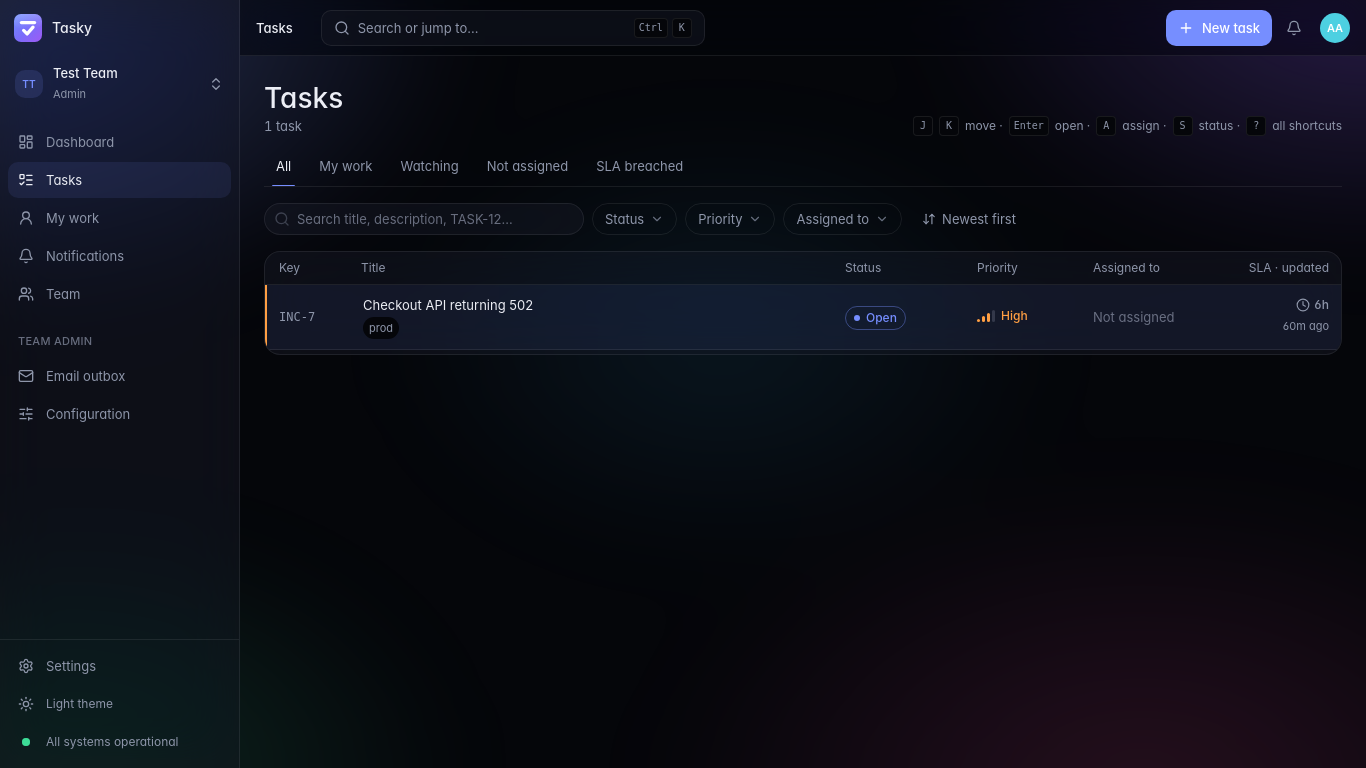
Scenario: task list quick actions › A opens the assign menu for the selected row; picking someone assigns
Check: the text "Checkout API returning 502" is shown, box [363,297,533,313]
Type keys "a"
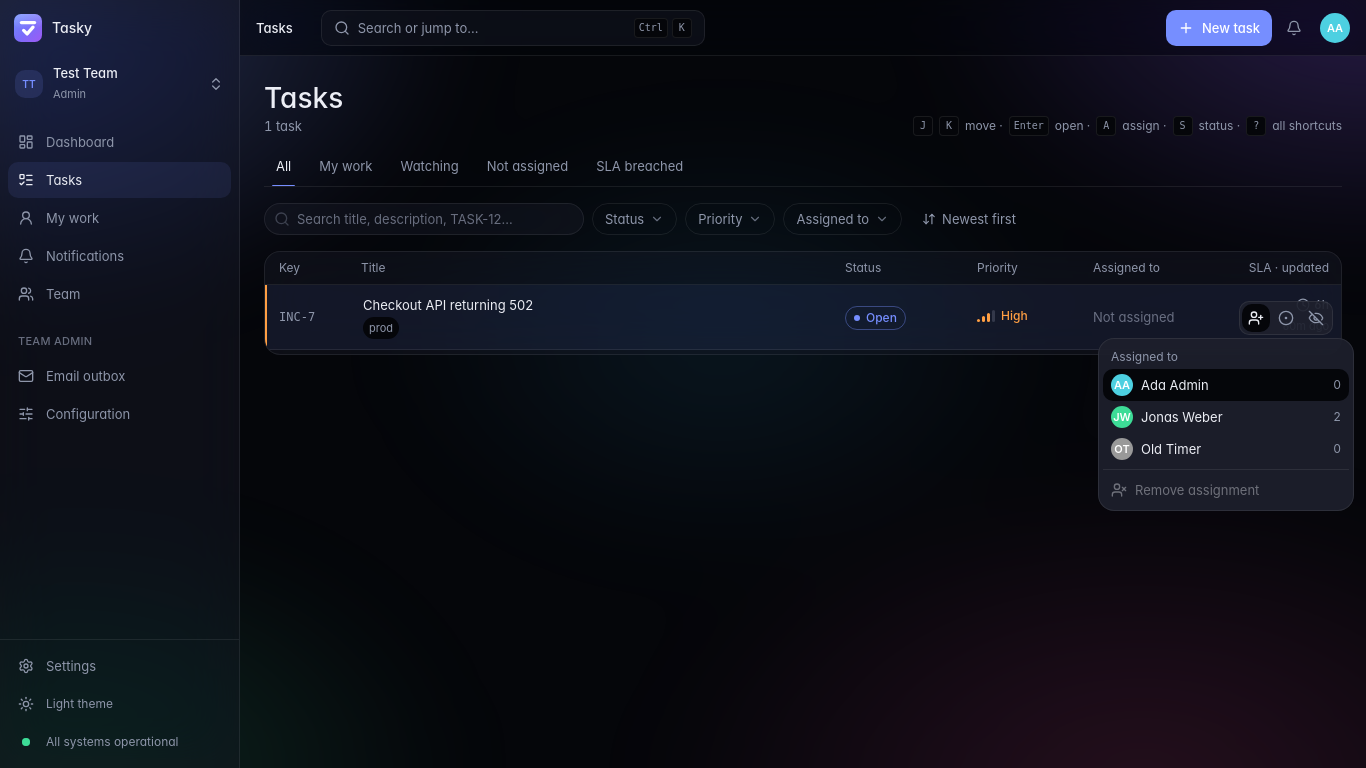
Click the menu item "AA Ada Admin 0" at (1226, 385), box [1103,369,1349,401]
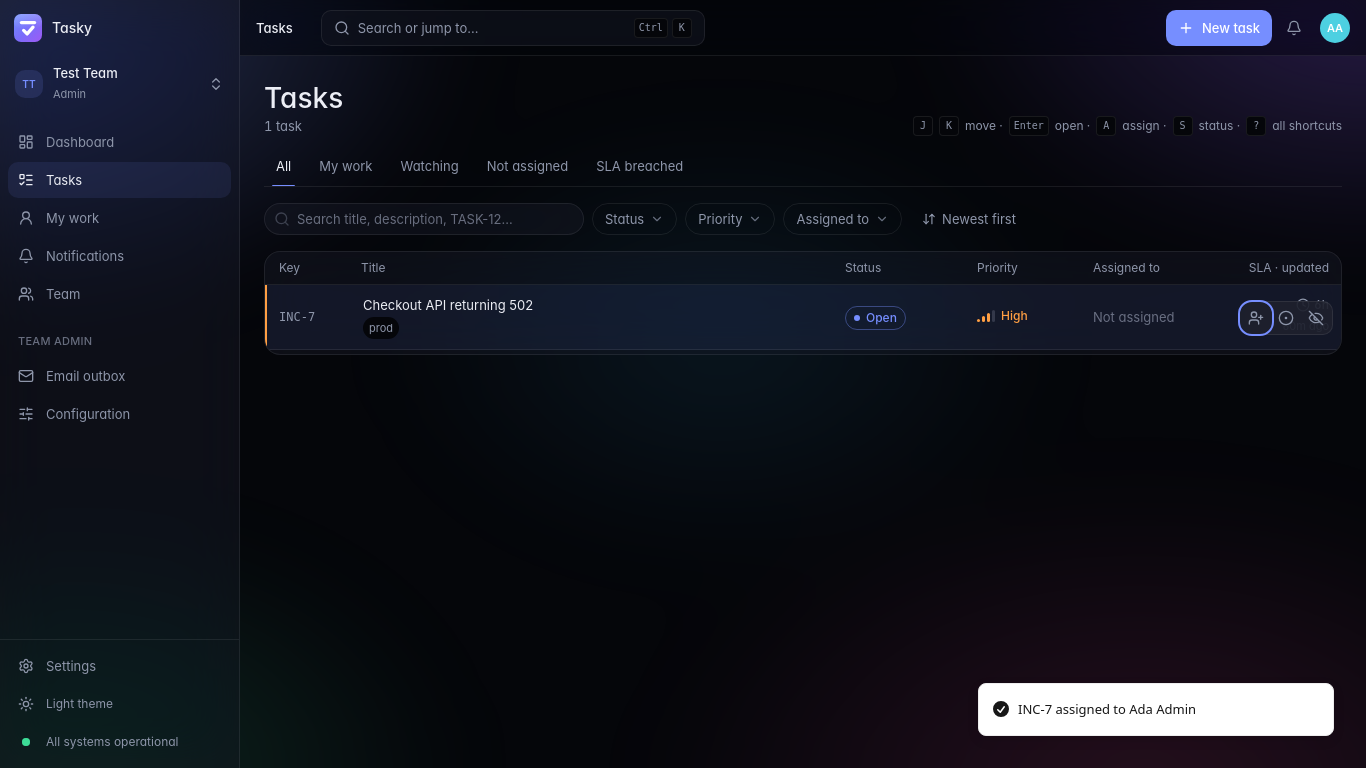
Check: the text "INC-7 assigned to Ada Admin" is shown, box [1018,700,1196,719]
